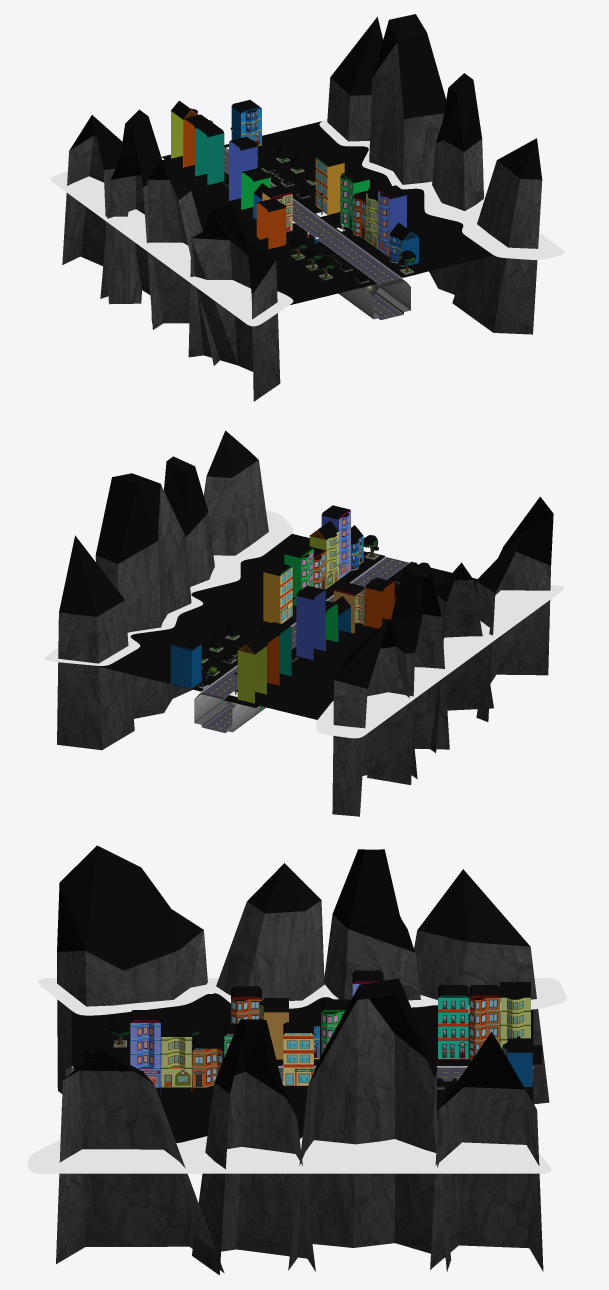
File: citywinter_15.fbx
The picture shows the model from 3 angles, top to bottom: view 1: azimuth 30°, elevation 25°; view 2: azimuth 150°, elevation 25°; view 3: azimuth 270°, elevation 25°; orthographic projection. The views are drawn at different scales.
Parts seen in each view (by area): view 1: City_15; view 2: City_15; view 3: City_15.
Boxes of the visible parts, x1,y1,x2,y2 form: City_15: (50, 14, 564, 401); City_15: (44, 430, 564, 816); City_15: (28, 845, 566, 1275).
Bounding box in the file's own units: 22617 × 13384 × 25170.
